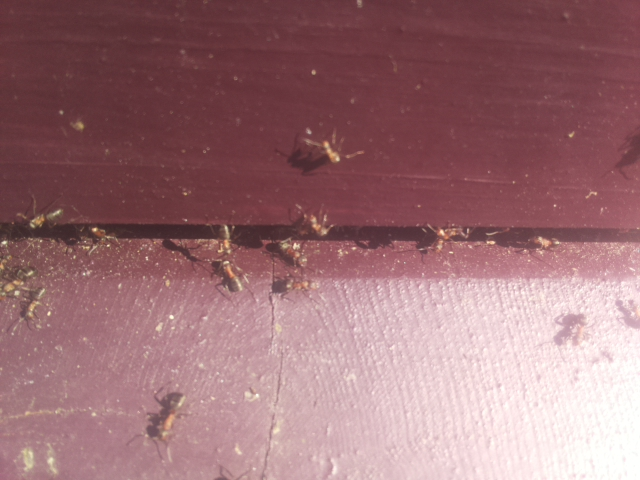ant: (151, 386, 194, 444), (13, 283, 51, 336), (304, 128, 344, 168), (555, 307, 589, 352), (212, 253, 246, 296), (23, 204, 68, 234), (1, 262, 38, 297), (614, 290, 638, 337), (298, 207, 332, 240), (85, 223, 122, 245), (214, 223, 234, 258)
